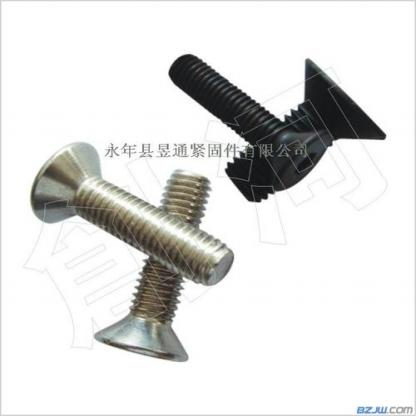FOD: (29, 140, 234, 289), (88, 166, 213, 365), (220, 59, 387, 204), (165, 52, 333, 190)
